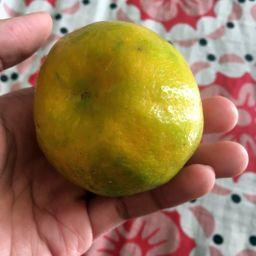orange: (32, 19, 206, 199)
